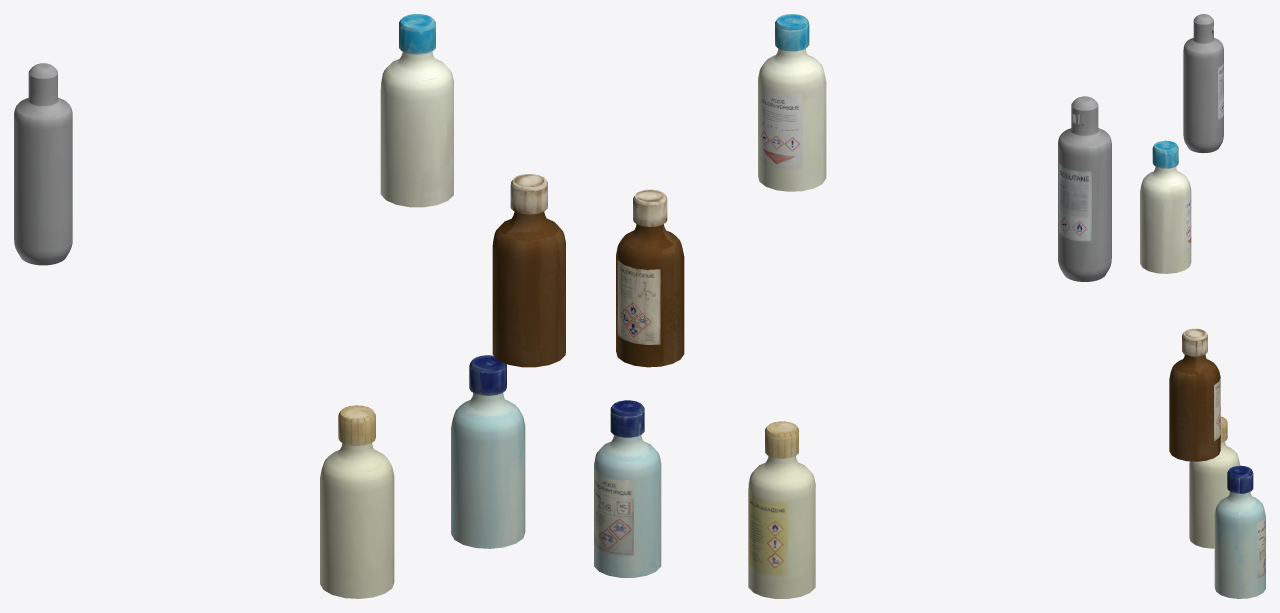
Rendered from fioles_chimie.fbx.
3 renders of one model, left to right at view 1: azimuth 30°, elevation 25°; view 2: azimuth 150°, elevation 25°; view 3: azimuth 270°, elevation 25°, orthographic. The views are drawn at different scales.
Parts seen in each view (by area): view 1: TAG_bouteille1, TAG_bouteille2, TAG_bouteille4, TAG_bouteille3, TAG_bombone; view 2: TAG_bouteille4, TAG_bouteille3, TAG_bouteille2, TAG_bouteille1, TAG_bombone; view 3: TAG_bouteille3, TAG_bouteille2, TAG_bouteille4, TAG_bombone, TAG_bouteille1.
Boxes of the visible parts, left/top/right/bottom form: TAG_bouteille1: left=320, top=405, right=394, bottom=598; TAG_bouteille2: left=451, top=355, right=525, bottom=548; TAG_bouteille4: left=492, top=174, right=565, bottom=367; TAG_bouteille3: left=380, top=14, right=453, bottom=207; TAG_bombone: left=14, top=63, right=72, bottom=265; TAG_bouteille4: left=616, top=189, right=684, bottom=367; TAG_bouteille3: left=758, top=14, right=826, bottom=191; TAG_bouteille2: left=594, top=400, right=661, bottom=577; TAG_bouteille1: left=748, top=421, right=815, bottom=598; TAG_bombone: left=1058, top=96, right=1111, bottom=281; TAG_bouteille3: left=1140, top=140, right=1191, bottom=273; TAG_bouteille2: left=1214, top=465, right=1265, bottom=598; TAG_bouteille4: left=1169, top=328, right=1220, bottom=461; TAG_bombone: left=1183, top=14, right=1223, bottom=153; TAG_bouteille1: left=1189, top=416, right=1240, bottom=548.
Size of the model in its own units: 115 by 123 by 33.96.
